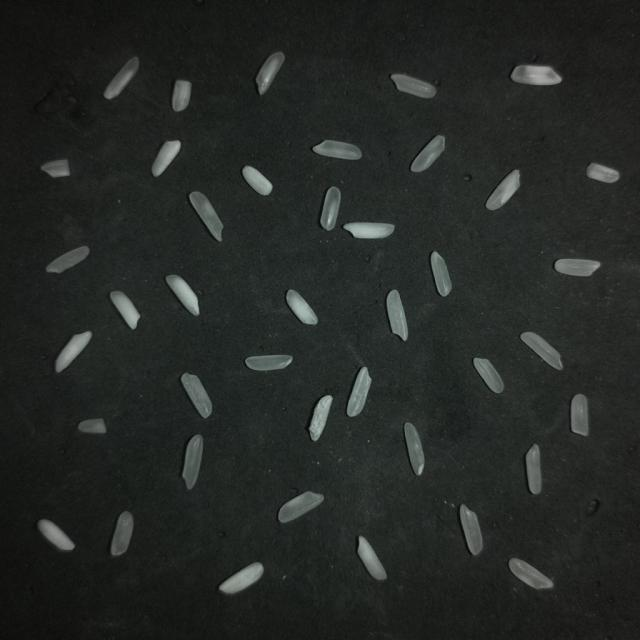broken: (41, 159, 69, 178), (78, 419, 106, 433)
chalky: (55, 331, 92, 373), (104, 57, 139, 99), (219, 562, 263, 594), (165, 275, 199, 316), (486, 170, 519, 210), (357, 535, 386, 580), (346, 367, 372, 417), (256, 52, 284, 95), (37, 519, 74, 551), (110, 292, 140, 329), (309, 395, 333, 441), (387, 290, 408, 341), (286, 290, 317, 324), (511, 65, 561, 86), (152, 141, 181, 176), (242, 166, 272, 195), (343, 222, 394, 239), (586, 163, 619, 183), (172, 80, 191, 111)
whole: (189, 192, 223, 241), (520, 332, 563, 369), (279, 491, 323, 523), (181, 373, 212, 418), (509, 558, 553, 589), (410, 135, 444, 172), (46, 246, 89, 273), (182, 435, 203, 489), (460, 505, 483, 554), (390, 74, 436, 98), (474, 358, 504, 393), (404, 423, 424, 475), (110, 511, 133, 556), (312, 140, 361, 159), (431, 252, 451, 296), (321, 187, 341, 230), (526, 444, 542, 495), (554, 259, 600, 276), (245, 355, 292, 371), (571, 394, 588, 436)
